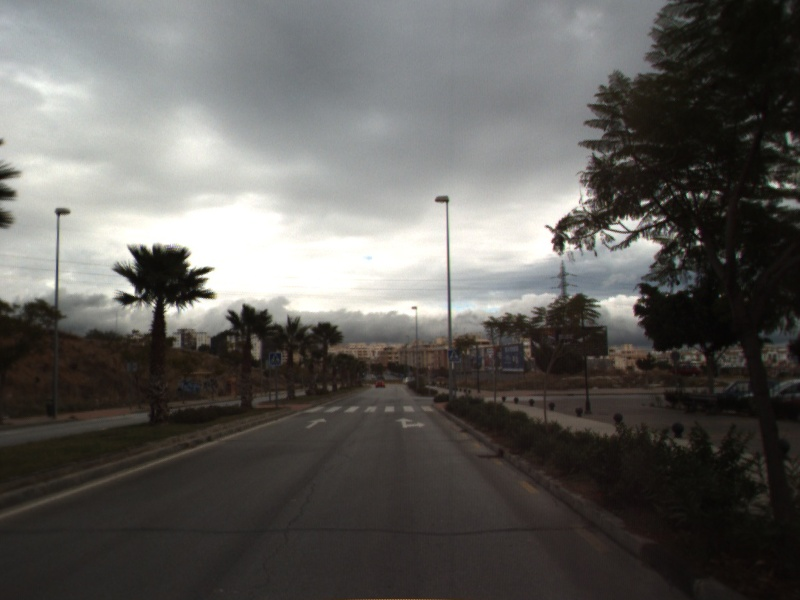STRAIGHT: (303, 416, 329, 430)
STRAIGHT_RIGHT: (393, 416, 427, 430)
